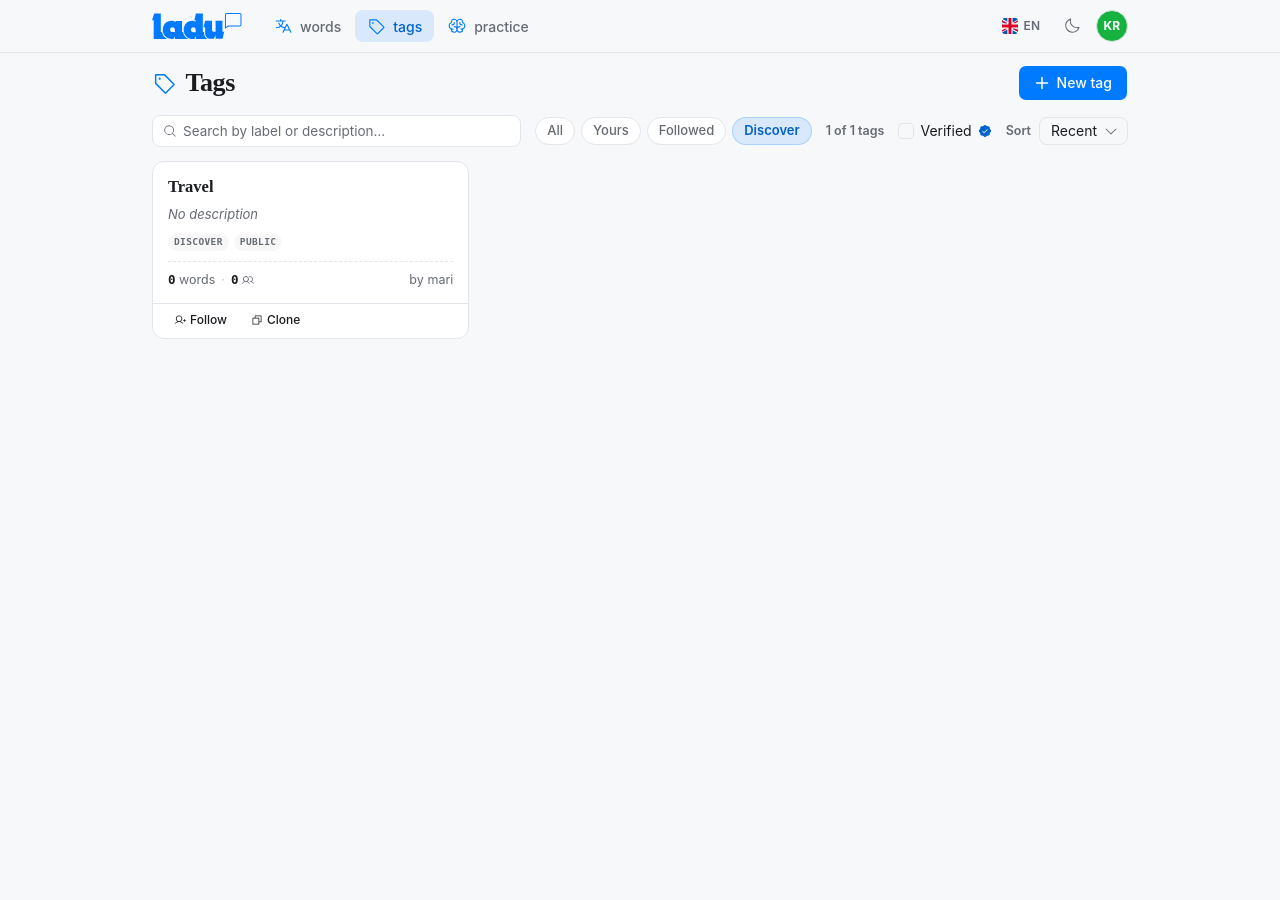
Test: TagsPage — follow / unfollow › Follow on a discover card follows immediately (no confirm dialog) and toasts
The width and height of the screenshot is (1280, 900).
Check: the text "Travel" is shown, box x1=168 y1=177 x2=214 y2=196
Click the button "Follow" at (200, 320), box x1=165 y1=308 x2=236 y2=332
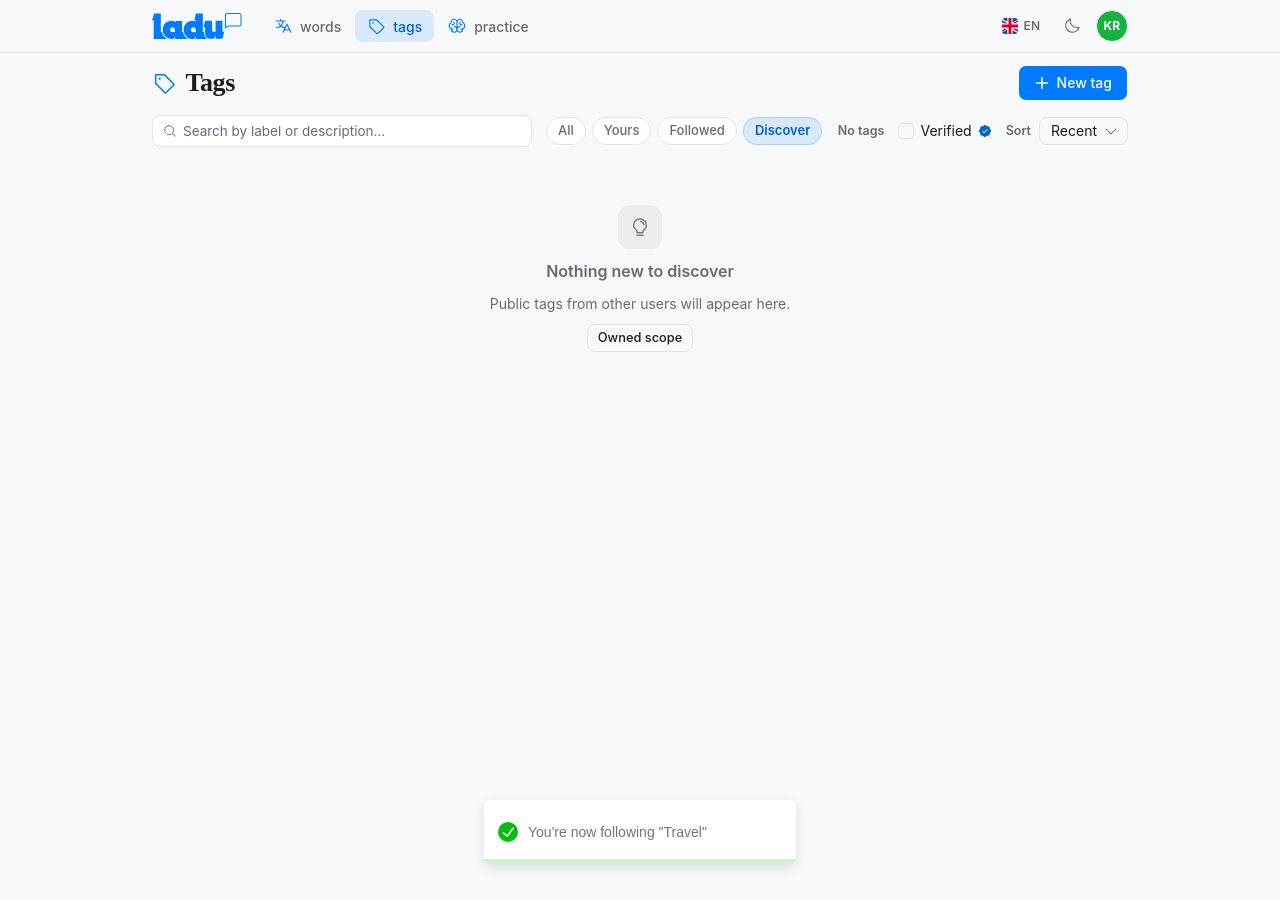
Check: the text "You're now following \"Travel\"" is shown, box x1=528 y1=824 x2=707 y2=840
